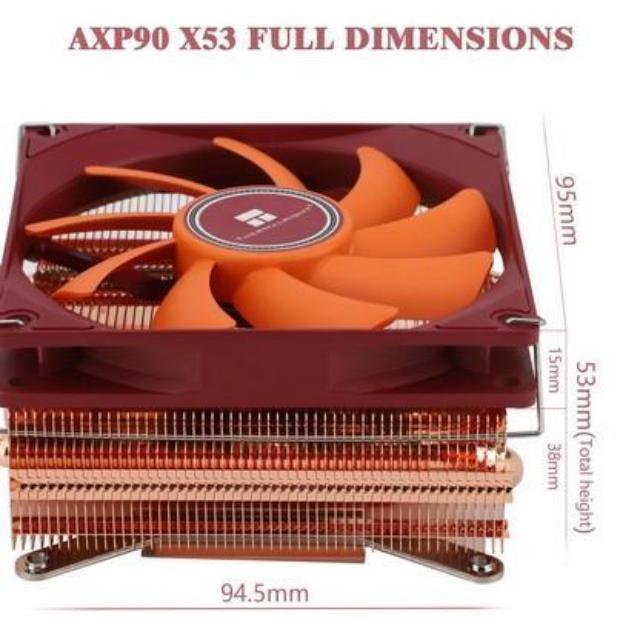CPU_Fan: (0, 123, 548, 589)
